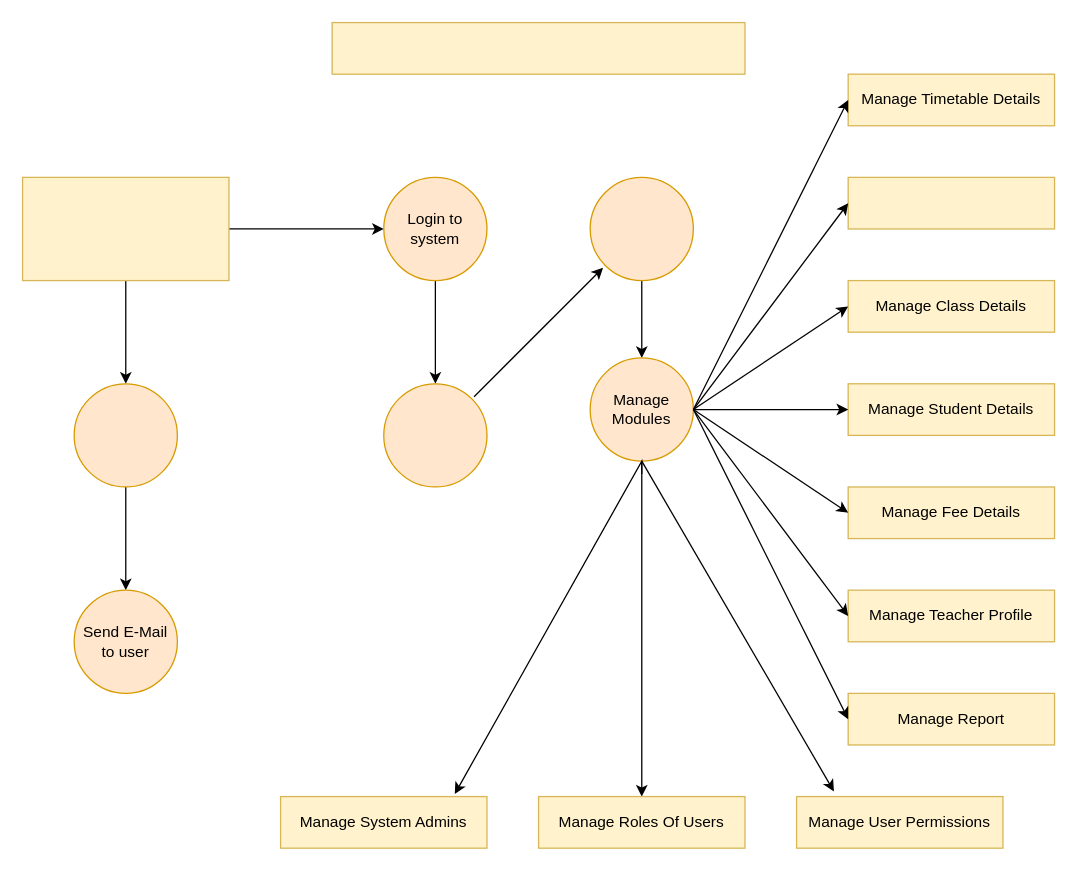
Some shapes in this 1077 by 871 pixel diagram are drawn without their labels. The shapes that lost their labels are listed below. From the top down, each one's box as (x1, y1, x2, y2) in pixels, then its label:
(331, 21, 745, 74): STUDENT INFORMATION SYSTEM
(847, 176, 1055, 229): Manage Attendance Details
(21, 176, 229, 281): ADMIN
(589, 176, 693, 281): Check Roles Of Access
(73, 382, 177, 487): Forgot Password
(382, 382, 487, 487): Check Credentials
